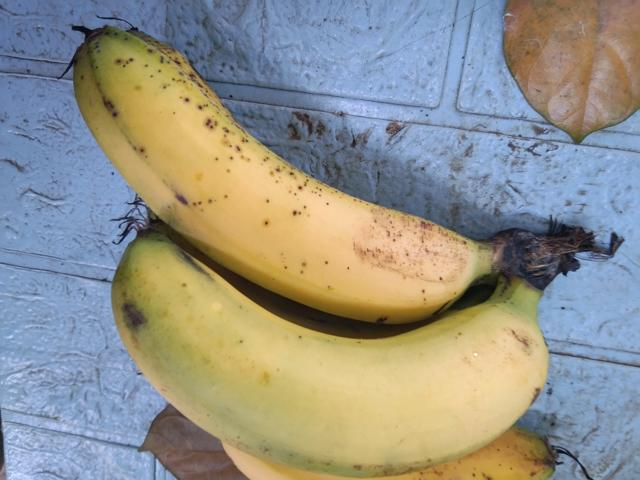freshripe: (101, 249, 563, 479)
ripe: (63, 17, 484, 330)
